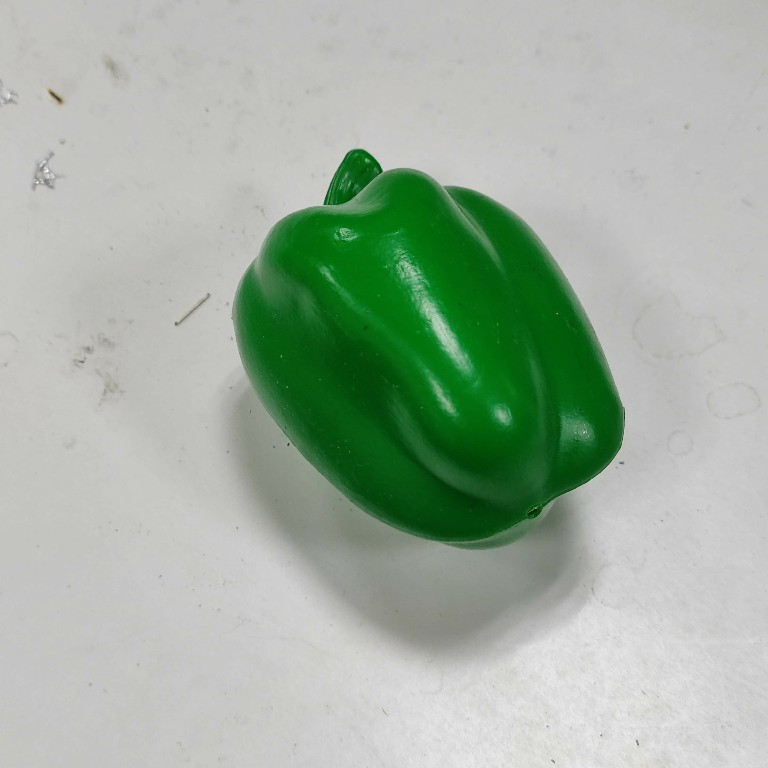fruit_pepper: (224, 145, 629, 558)
